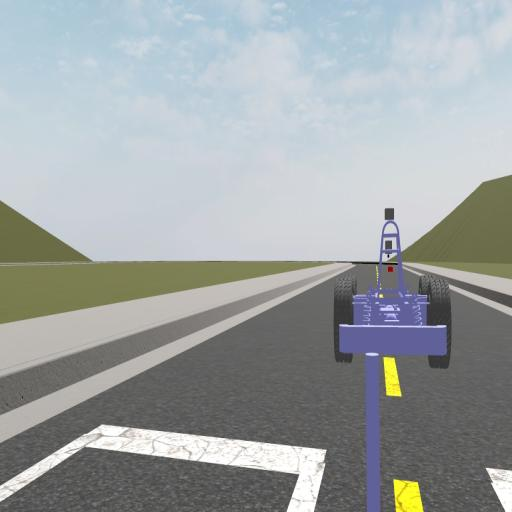ERP-42: (333, 206, 452, 370)
